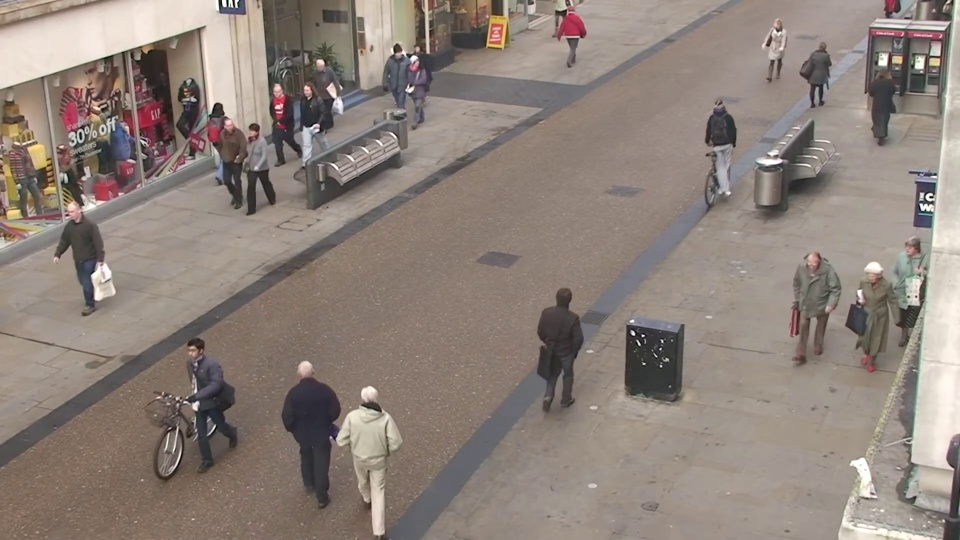pedestrian: (163, 336, 224, 487), (344, 362, 401, 520), (281, 345, 339, 499), (839, 260, 892, 395), (879, 234, 934, 364), (780, 248, 829, 379), (44, 200, 98, 315), (547, 274, 591, 412), (232, 121, 269, 216), (209, 117, 246, 211), (858, 60, 896, 144), (208, 94, 243, 182), (709, 90, 740, 179), (289, 81, 321, 166), (261, 81, 293, 165), (806, 37, 838, 114), (305, 58, 335, 137), (401, 54, 429, 132), (385, 46, 412, 121), (403, 42, 430, 117), (759, 18, 786, 89), (564, 0, 586, 64)
